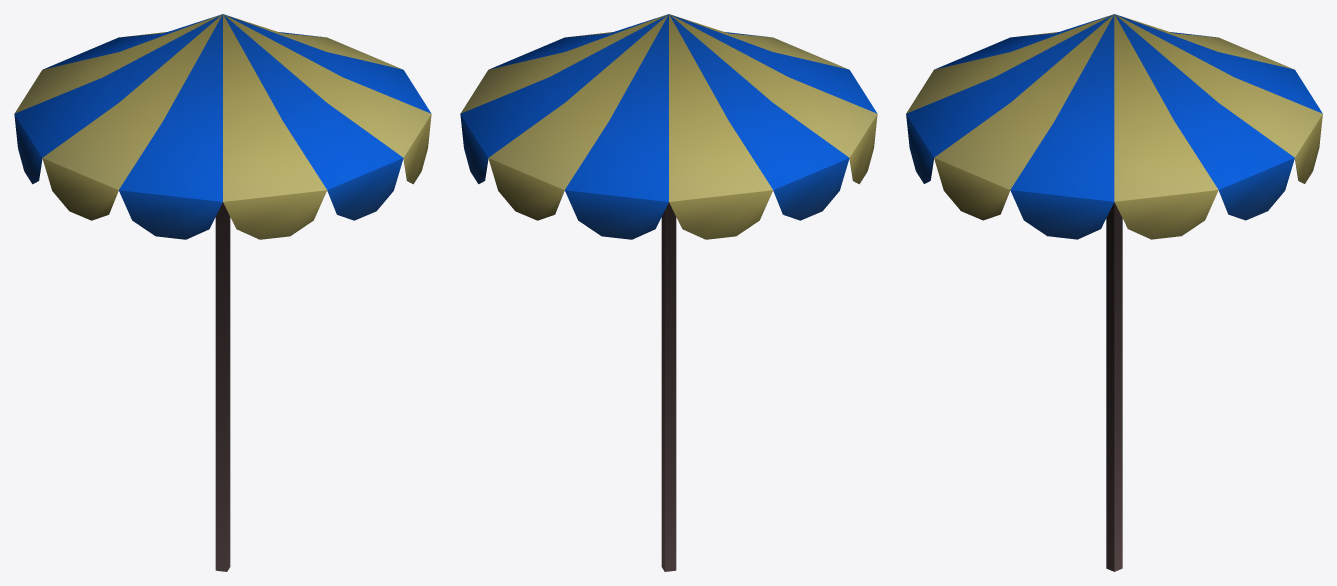
The model's file is Umbrella_3B.fbx.
The picture shows the model from 3 angles, left to right: view 1: azimuth 30°, elevation 25°; view 2: azimuth 150°, elevation 25°; view 3: azimuth 270°, elevation 25°; orthographic projection.
Visible parts, largest first — view 1: Umbrella_3B; view 2: Umbrella_3B; view 3: Umbrella_3B.
Part boxes in pixels (box(x1,y1,x2,y2)): Umbrella_3B: box(14, 14, 431, 571); Umbrella_3B: box(460, 14, 877, 571); Umbrella_3B: box(906, 14, 1322, 571).
Size of the model in its own units: 193 by 283 by 193.
